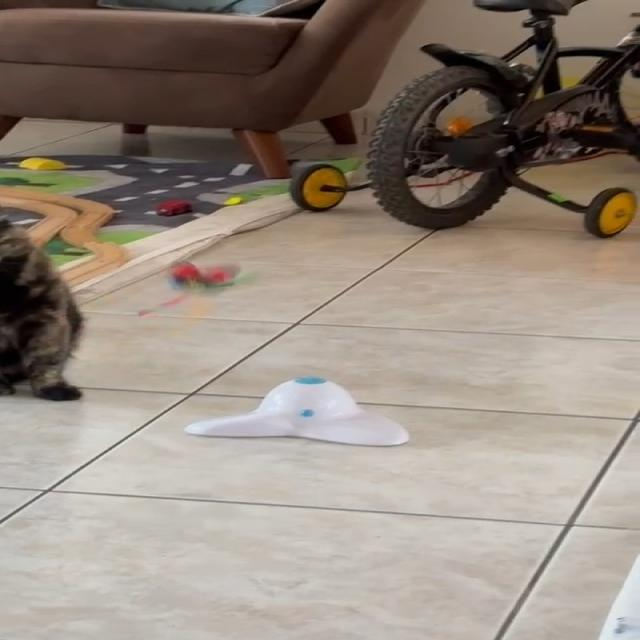authorized: (0, 215, 85, 401)
